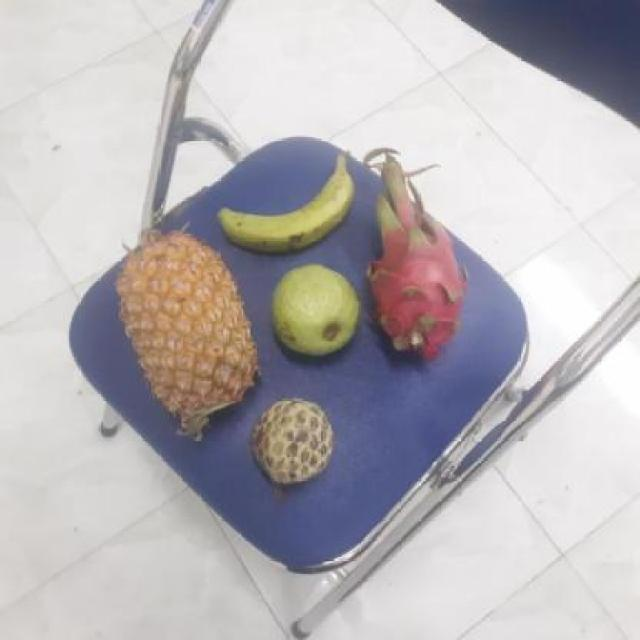banana: (214, 152, 349, 255)
dragon fruit: (354, 192, 466, 352)
guava: (267, 264, 361, 362)
pineapple: (109, 238, 256, 430)
sugar apple: (250, 398, 338, 485)
